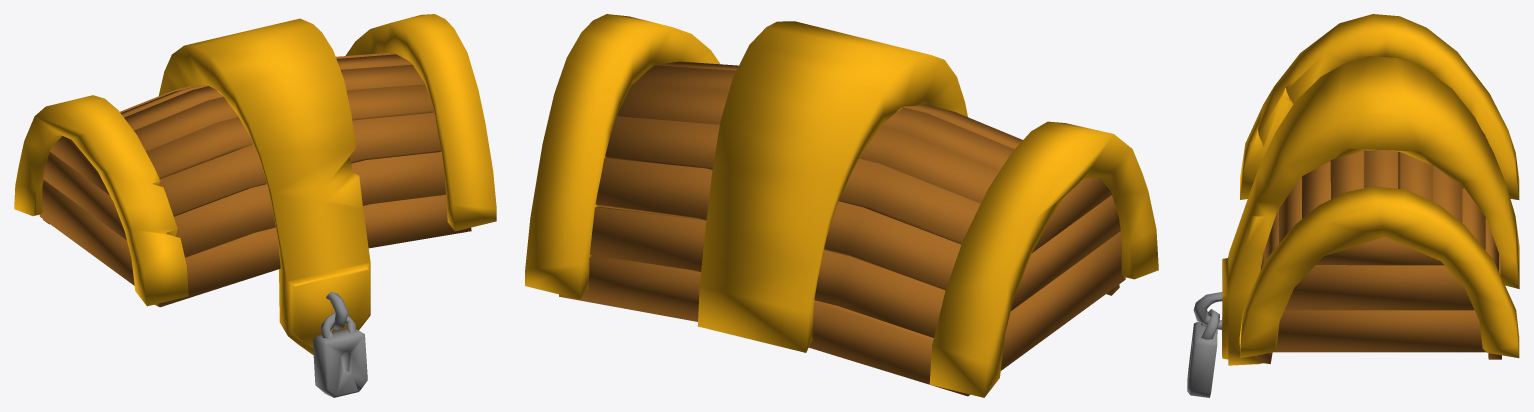
File: chest_top_low.glb
3 views of the same model, side by side, from view 1: azimuth 30°, elevation 25°; view 2: azimuth 150°, elevation 25°; view 3: azimuth 270°, elevation 25° (orthographic). The views are drawn at different scales.
Visible parts, largest first — view 1: Cube.020; view 2: Cube.020; view 3: Cube.020.
Part boxes in pixels (<box>): Cube.020: <box>14,14,496,397</box>; Cube.020: <box>525,14,1158,397</box>; Cube.020: <box>1187,14,1519,397</box>.
Size of the model in its own units: 1.1 by 0.8146 by 0.7958.
